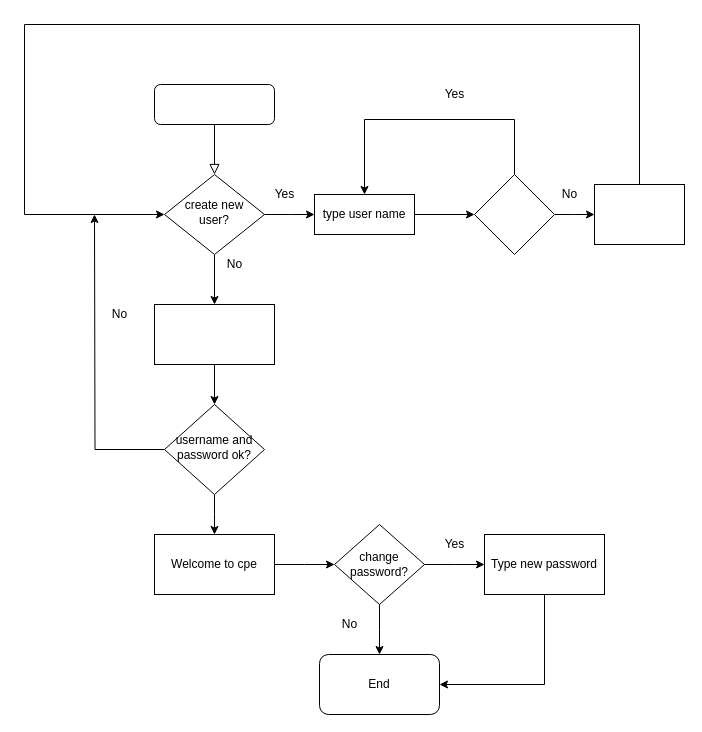
Some shapes in this 702 by 732 pixel diagram are drawn without their labels. Here are the shapes that lost their labels. From the top down, the box of each, then its label:
(154, 84, 274, 124): Start
(474, 174, 554, 254): user exists?
(594, 184, 684, 244): Type password
(154, 304, 274, 364): Type user name and password
